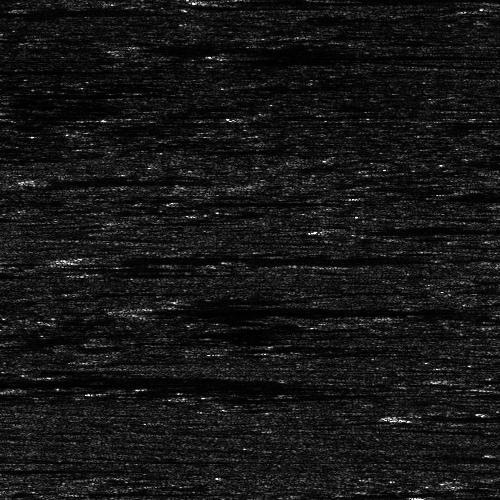object: (120, 298, 173, 321), (45, 253, 118, 264), (115, 40, 168, 53), (0, 174, 59, 185), (402, 412, 455, 421), (213, 50, 266, 57), (326, 224, 379, 231), (61, 269, 102, 274)
shadow: (147, 298, 489, 321), (142, 40, 474, 53), (82, 253, 365, 264), (240, 50, 500, 57), (23, 174, 185, 185), (0, 65, 166, 72), (353, 224, 477, 231), (0, 270, 92, 277), (429, 412, 500, 421), (81, 269, 194, 274), (0, 466, 103, 471), (201, 296, 318, 297)
